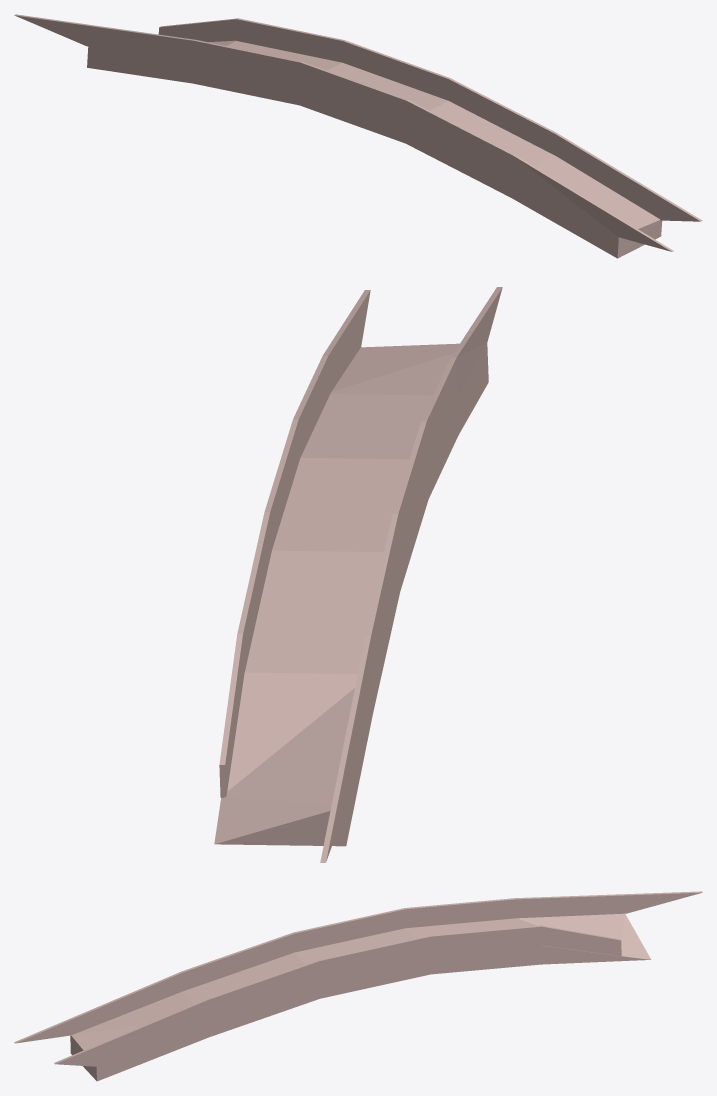
Rendered from bridge.dae.
3 views of the same model, one above another, from view 1: azimuth 30°, elevation 25°; view 2: azimuth 150°, elevation 25°; view 3: azimuth 270°, elevation 25° (orthographic). The views are drawn at different scales.
Visible parts, largest first — view 1: Cube; view 2: Cube; view 3: Cube.
Boxes of the visible parts, <box> form: Cube: <box>14,14,702,258</box>; Cube: <box>214,287,502,862</box>; Cube: <box>14,891,702,1081</box>.
Bounding box in the file's own units: 19.66 × 38.59 × 5.46.
